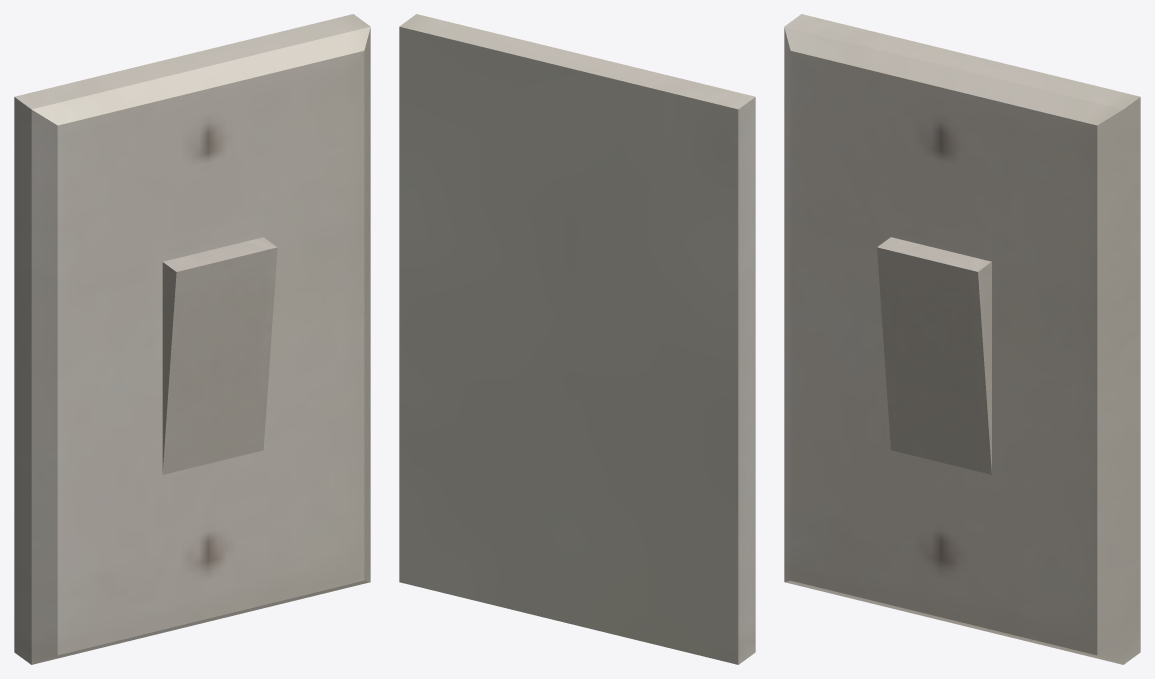
File: A_Lightswitch.FBX
3 views of the same model, side by side, from view 1: azimuth 30°, elevation 25°; view 2: azimuth 150°, elevation 25°; view 3: azimuth 330°, elevation 25° (orthographic).
Parts seen in each view (by area): view 1: A_Lightswitch; view 2: A_Lightswitch; view 3: A_Lightswitch.
Boxes of the visible parts, left/top/right/bottom form: A_Lightswitch: left=14, top=14, right=370, bottom=664; A_Lightswitch: left=399, top=14, right=755, bottom=664; A_Lightswitch: left=784, top=14, right=1140, bottom=664.
Bounding box in the file's own units: 7.44 × 11.65 × 1.65.
